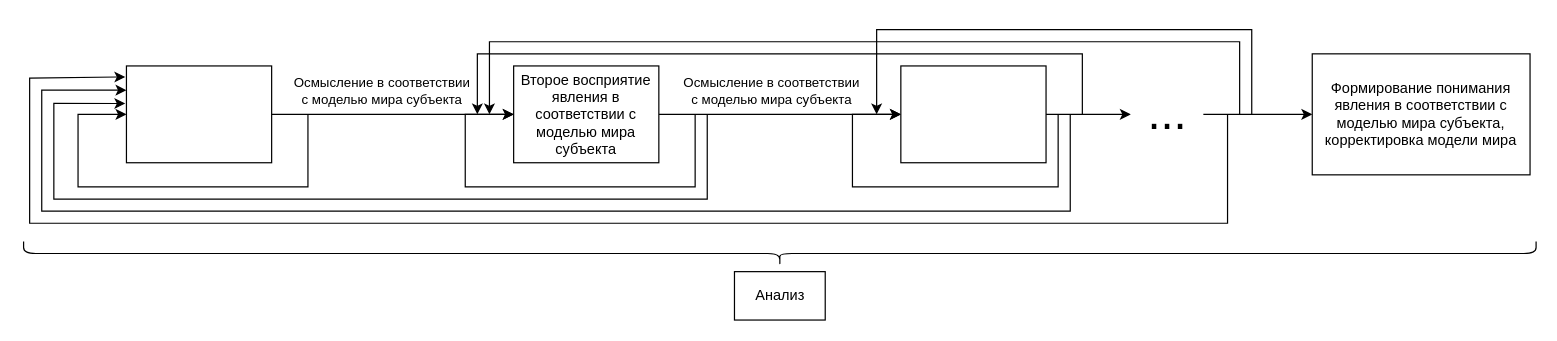
The diagram is 1557 pixels wide and 341 high, and some of its shapes have lost their labels. The shapes that lost their labels are listed below. From the top down, each one's box as (x1, y1, x2, y2) in pixels, then its label:
(125, 65, 272, 163): Первое восприятие явления в соответствии с моделью мира субъекта
(900, 65, 1046, 163): Третье восприятие явления в соответствии с моделью мира субъекта
